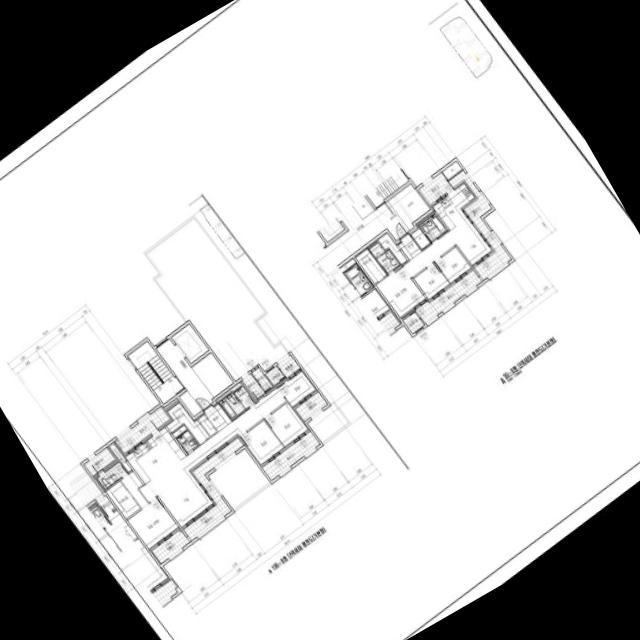background: (0, 0, 640, 640)
space_balconi: (418, 170, 511, 280), (183, 437, 243, 540), (415, 270, 481, 324), (262, 431, 320, 480), (115, 406, 170, 453), (150, 530, 190, 564), (295, 391, 327, 421), (83, 447, 114, 476), (242, 374, 264, 399), (277, 355, 300, 377)
space_bedroom: (120, 471, 179, 550), (376, 266, 426, 319), (239, 420, 285, 467), (264, 402, 310, 448), (276, 370, 318, 408), (413, 263, 450, 301), (435, 247, 472, 284)
space_dressroom: (105, 481, 140, 518), (354, 247, 386, 283)
space_elevator: (171, 324, 208, 363), (318, 217, 345, 242)
space_elevator_hall: (156, 339, 233, 416), (324, 201, 409, 265)
space_front: (197, 402, 231, 435), (397, 233, 422, 260)
space_kitchen: (124, 425, 185, 484), (430, 181, 477, 230)
space_living_room: (139, 386, 286, 528), (403, 217, 494, 277)
space_multipurpose_space: (165, 400, 209, 443)
space_other: (387, 183, 430, 230), (377, 231, 406, 264), (108, 442, 131, 471), (214, 381, 241, 402), (352, 196, 374, 219), (251, 367, 272, 391), (410, 227, 430, 248), (442, 161, 462, 179), (172, 425, 186, 437), (164, 398, 178, 409)
space_outdoor_room: (402, 311, 424, 333), (265, 366, 284, 385)
space_staircase: (127, 341, 183, 403), (366, 169, 409, 206)
space_toilet: (219, 386, 254, 419), (369, 242, 399, 273), (419, 213, 447, 241), (97, 462, 127, 488), (177, 430, 198, 453)
